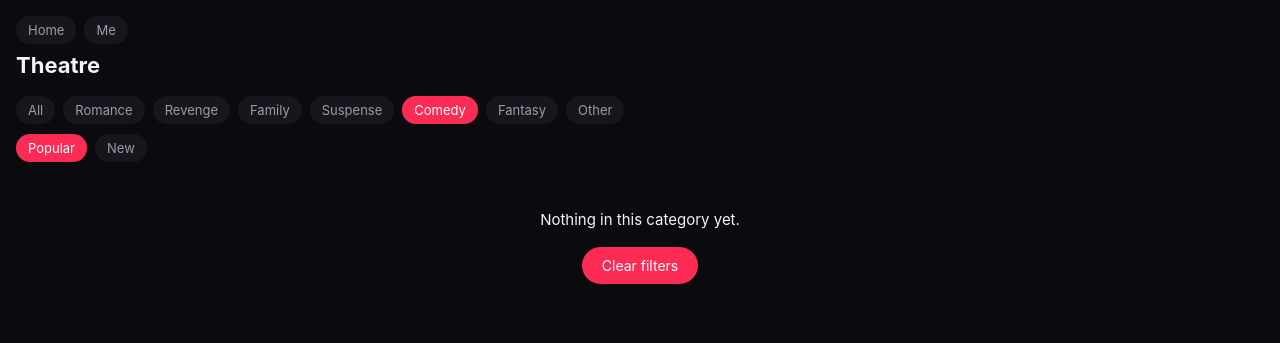
Test: the browse grid › offers a clear from a filtered empty list, not a retry of the same nothing
Expected: the element with test id "empty-state" is shown, [540,210,740,284]
Click the button "Clear filters" at (640, 265), box [582,246,698,284]
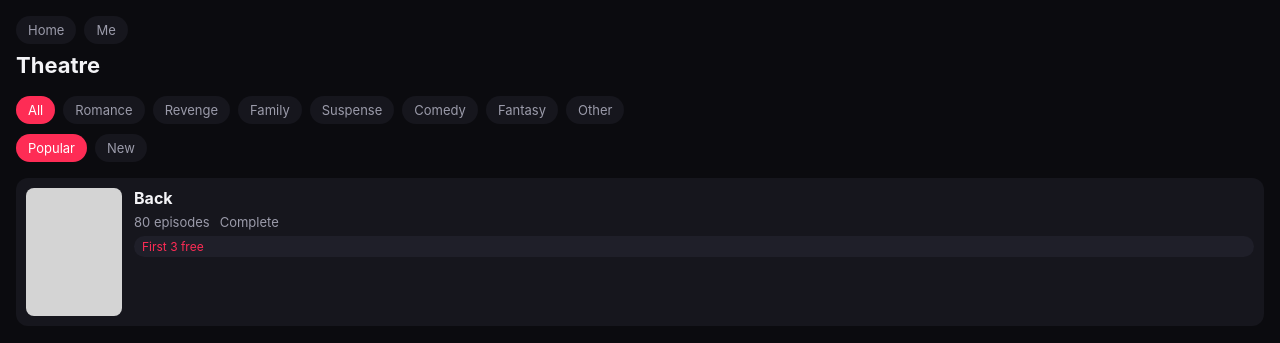
Expected: the heading "Back" is shown, [134,188,173,208]
